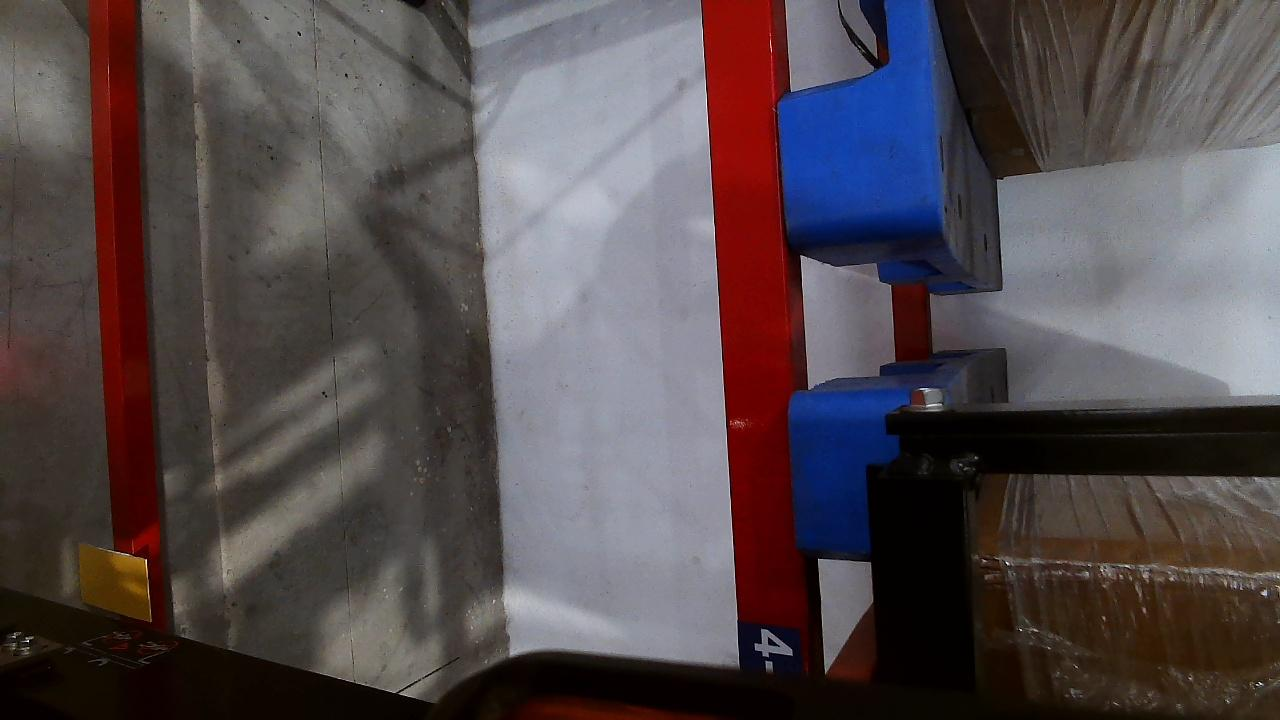h_rack: (700, 0, 804, 665), (83, 0, 165, 555)
orange_strip: (78, 546, 148, 616)
small_pallet: (770, 0, 945, 224)
